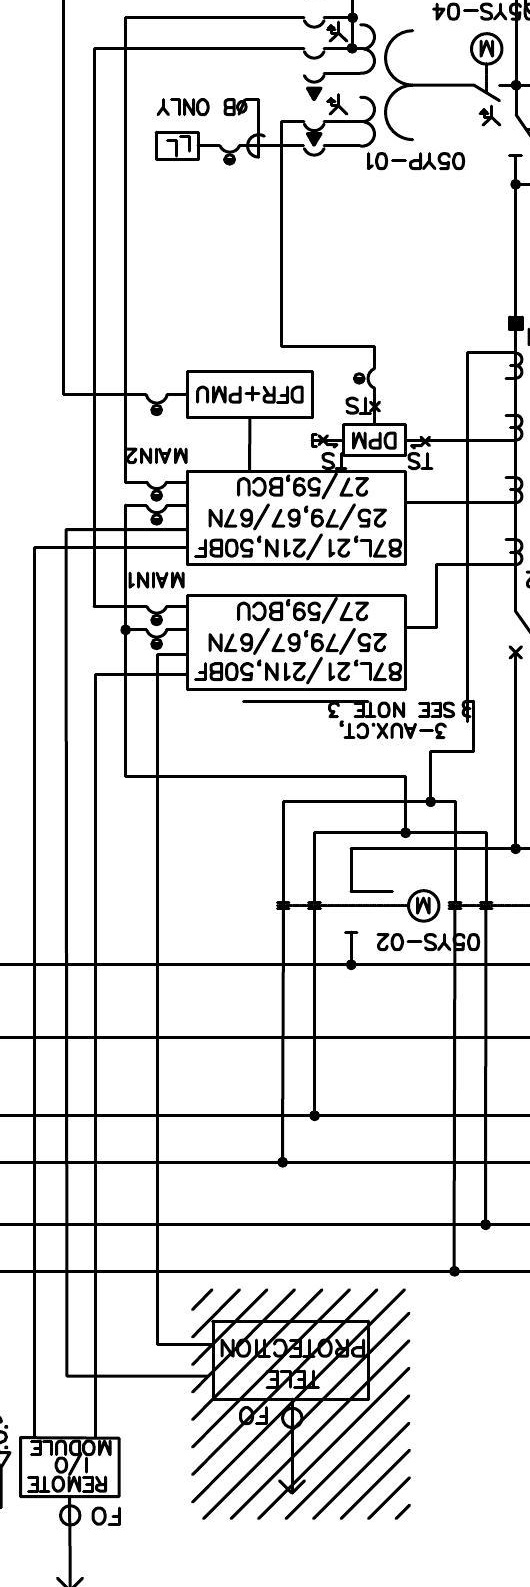115_1way_ds_w_motor: (343, 889, 441, 935), (468, 31, 505, 103)
115_vt_3p: (301, 19, 503, 158)
DPM: (341, 422, 409, 458)
LL: (154, 130, 201, 162)
remote_io_module: (17, 1434, 122, 1500)
tele_protection: (209, 1317, 373, 1403)
